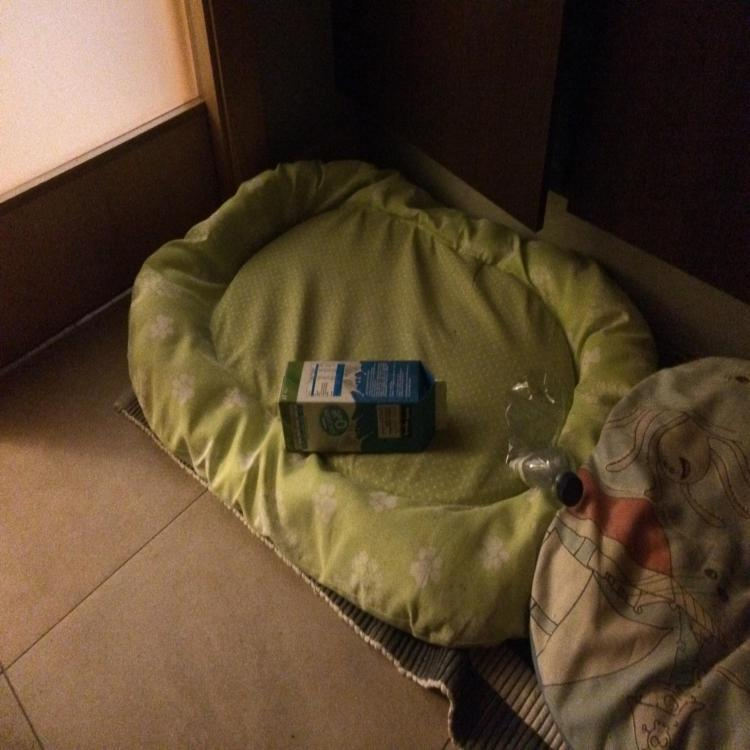Clear plastic bottle: (503, 368, 583, 508)
Plastic bottle cap: (561, 475, 583, 507)
